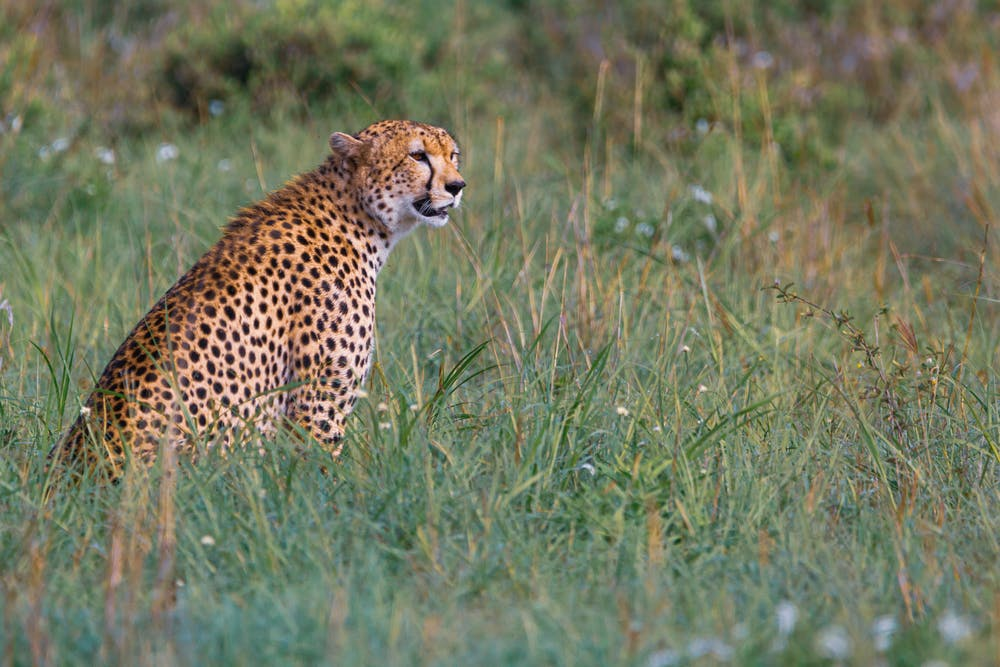cheetah: (321, 111, 473, 241)
